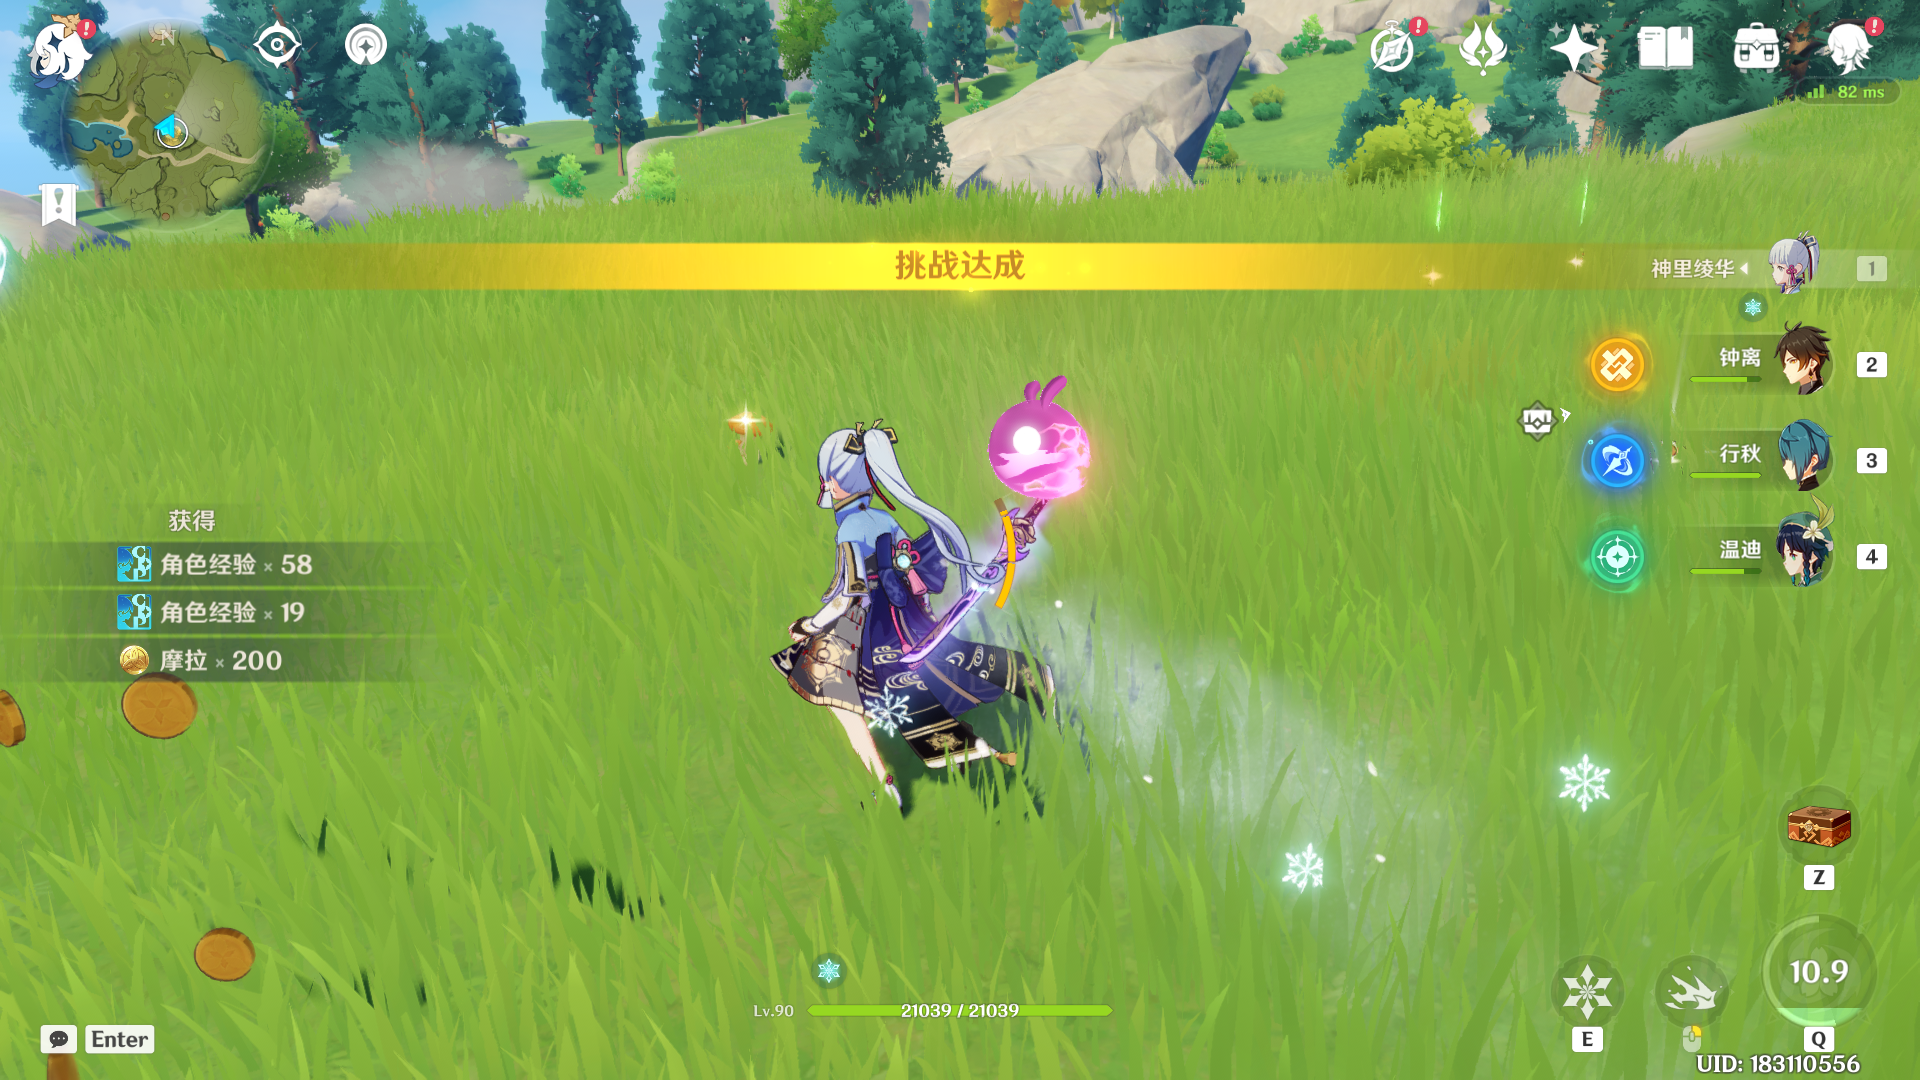character: (702, 378, 1145, 851)
